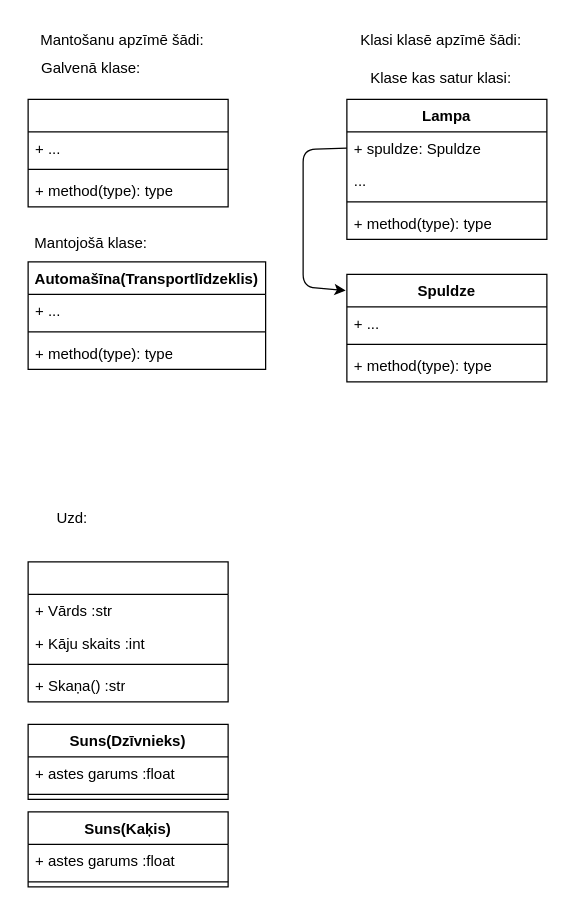
This 569x909 diagram has some shape labels left out. The shapes that lost their labels are listed below. From the top down, each one's box as (x1, y1, x2, y2) in pixels, then its label:
(27, 98, 228, 207): Transportlīdzeklis
(27, 561, 228, 702): Dzīvnieks
